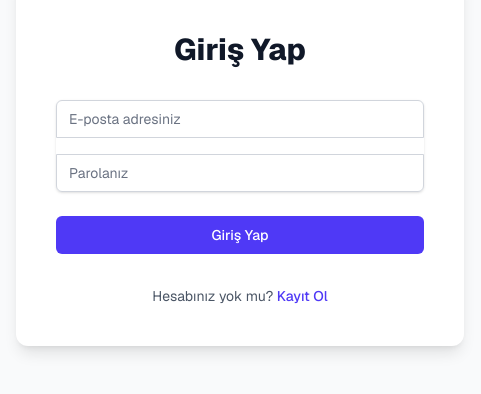
it: LoginPage › should display error message on failed login
Type "test@example.com" into the field labelled "E-posta adresiniz" at (240, 119), box [56,100,424,138]
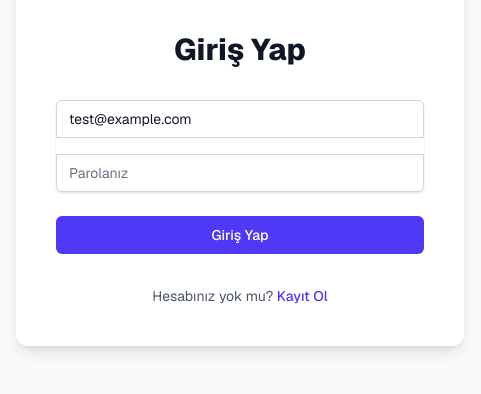
Type "password123" into the password field labelled "Parolanız" at (240, 173), box [56,154,424,192]
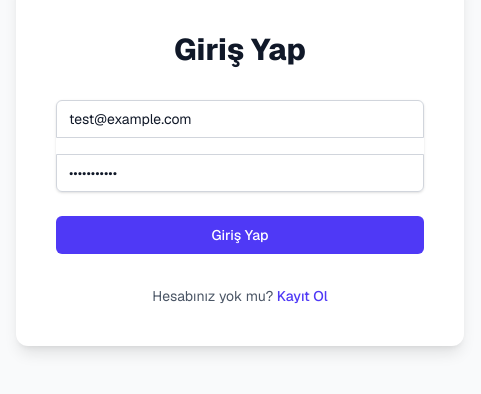
Click the button "Giriş Yap" at (240, 235), box [56,216,424,254]
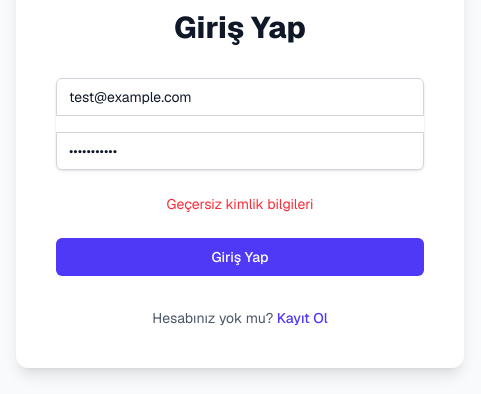
Expected: the text "Geçersiz kimlik bilgileri" is shown, [167,195,314,213]
